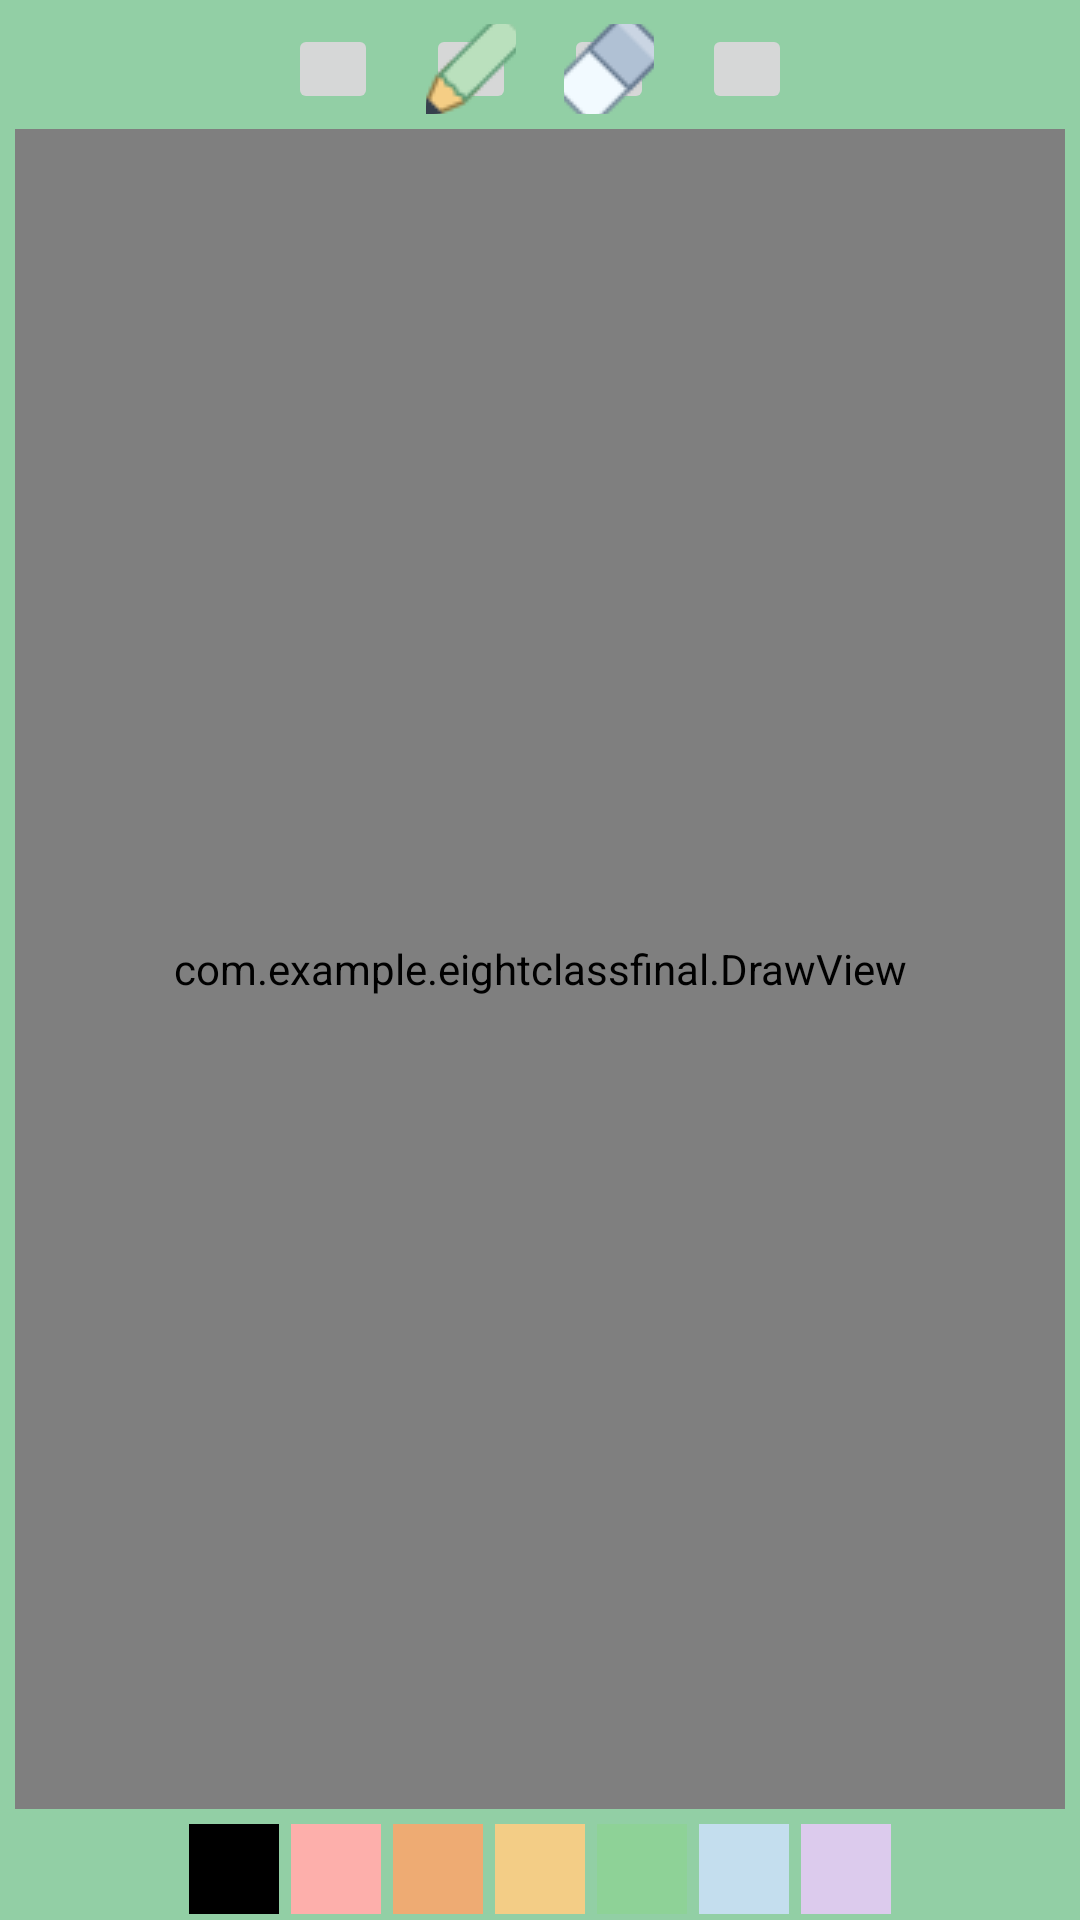

Named icons in this screenshot (1080 x 1920) and their centers, [x,y]:
brush mode: [471,69]
erase: [609,69]
